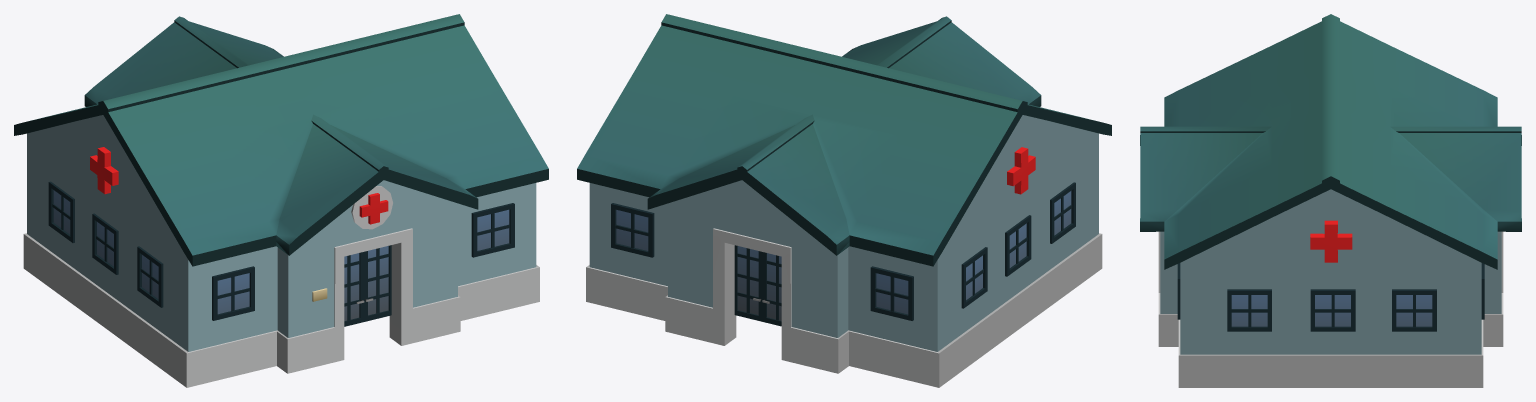
Rendered from buildings-business-doctorsoffice_v1.glb.
The picture shows the model from 3 angles, left to right: view 1: azimuth 30°, elevation 25°; view 2: azimuth 150°, elevation 25°; view 3: azimuth 270°, elevation 25°; orthographic projection. The views are drawn at different scales.
Visible parts, largest first — view 1: DoctorsOffice_base, DoctorsOffice_windowRefl, DoctorsOffice_light; view 2: DoctorsOffice_base, DoctorsOffice_windowRefl, DoctorsOffice_light; view 3: DoctorsOffice_base, DoctorsOffice_windowRefl, DoctorsOffice_light.
Part boxes in pixels (<box>): DoctorsOffice_base: <box>14,14,548,387</box>; DoctorsOffice_windowRefl: <box>53,190,509,320</box>; DoctorsOffice_light: <box>90,147,388,224</box>; DoctorsOffice_base: <box>577,14,1111,387</box>; DoctorsOffice_windowRefl: <box>616,191,1071,320</box>; DoctorsOffice_light: <box>1007,147,1035,194</box>; DoctorsOffice_base: <box>1140,14,1521,387</box>; DoctorsOffice_windowRefl: <box>1231,295,1432,326</box>; DoctorsOffice_light: <box>1310,220,1352,262</box>.
Size of the model in its own units: 15.74 by 9.43 by 15.36.
